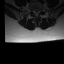CCS_normal: (35, 8, 37, 17)
LFS_normal: (39, 7, 41, 14)
LLS_normal: (37, 8, 39, 16)
RFS_normal: (31, 7, 33, 13)
RLS_normal: (33, 8, 35, 16)
